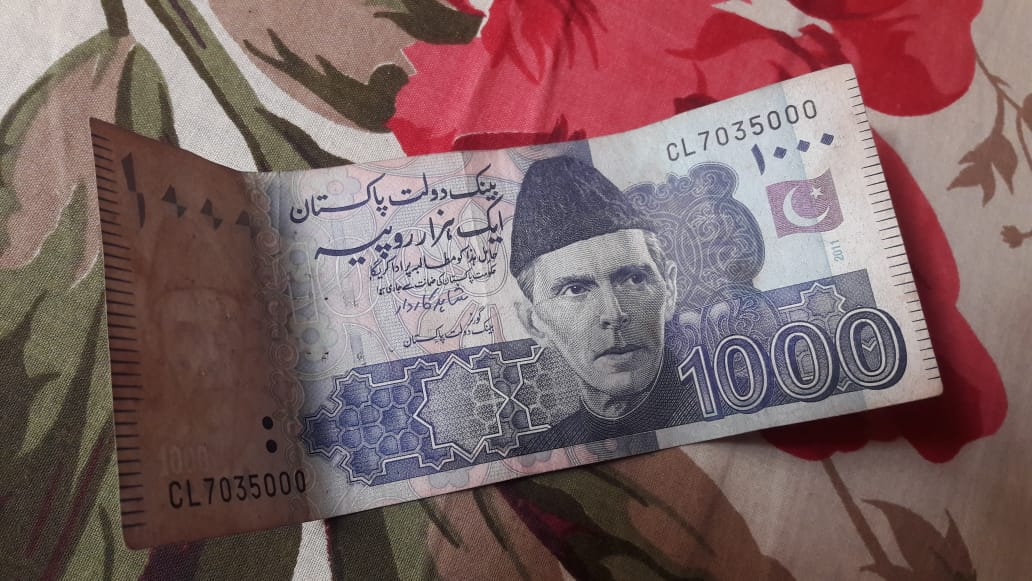1000 rupee: (81, 79, 945, 531)
